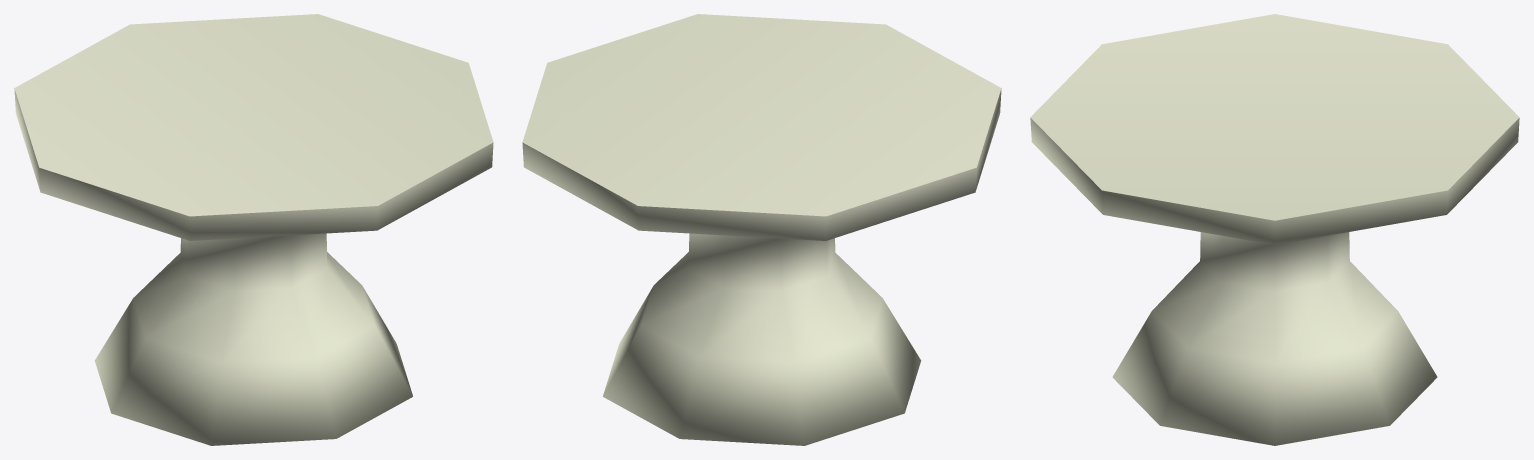
The model's file is Cake_Display_E.FBX.
3 views of the same model, side by side, from view 1: azimuth 30°, elevation 25°; view 2: azimuth 150°, elevation 25°; view 3: azimuth 270°, elevation 25° (orthographic).
Parts seen in each view (by area): view 1: Cake Display; view 2: Cake Display; view 3: Cake Display.
Part boxes in pixels (x1=…): Cake Display: x1=14, y1=14, x2=493, y2=445; Cake Display: x1=522, y1=14, x2=1001, y2=445; Cake Display: x1=1030, y1=14, x2=1519, y2=445.
Bounding box in the file's own units: 89.08 × 52.2 × 89.08.
